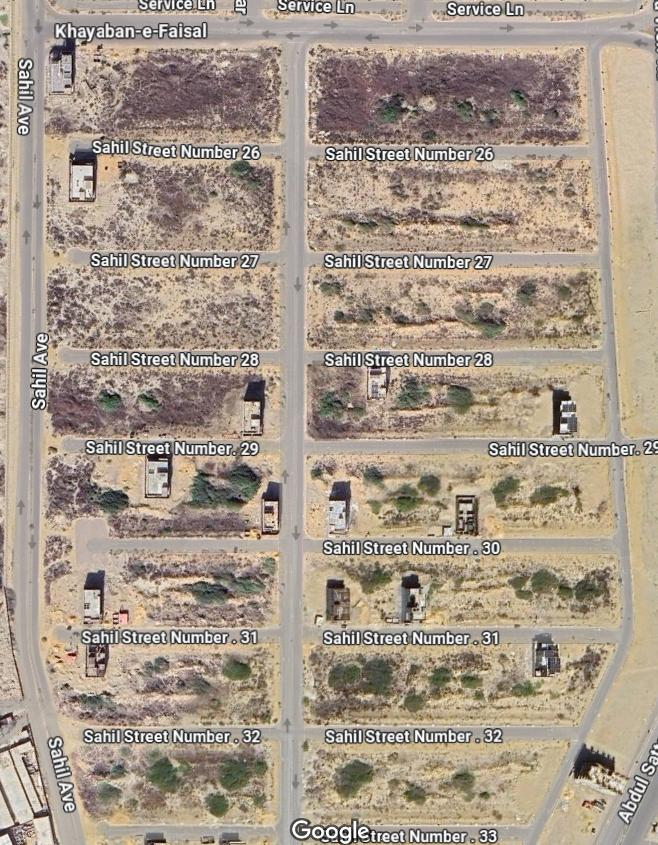Buildings: (44, 445, 278, 624), (308, 45, 589, 142), (309, 155, 596, 249), (302, 644, 613, 728), (305, 457, 613, 540), (307, 549, 617, 629), (300, 735, 567, 826), (305, 267, 599, 349), (311, 362, 607, 438), (59, 50, 284, 146), (59, 724, 279, 822), (40, 635, 272, 724), (49, 160, 274, 250), (50, 267, 274, 343), (50, 369, 282, 442)
